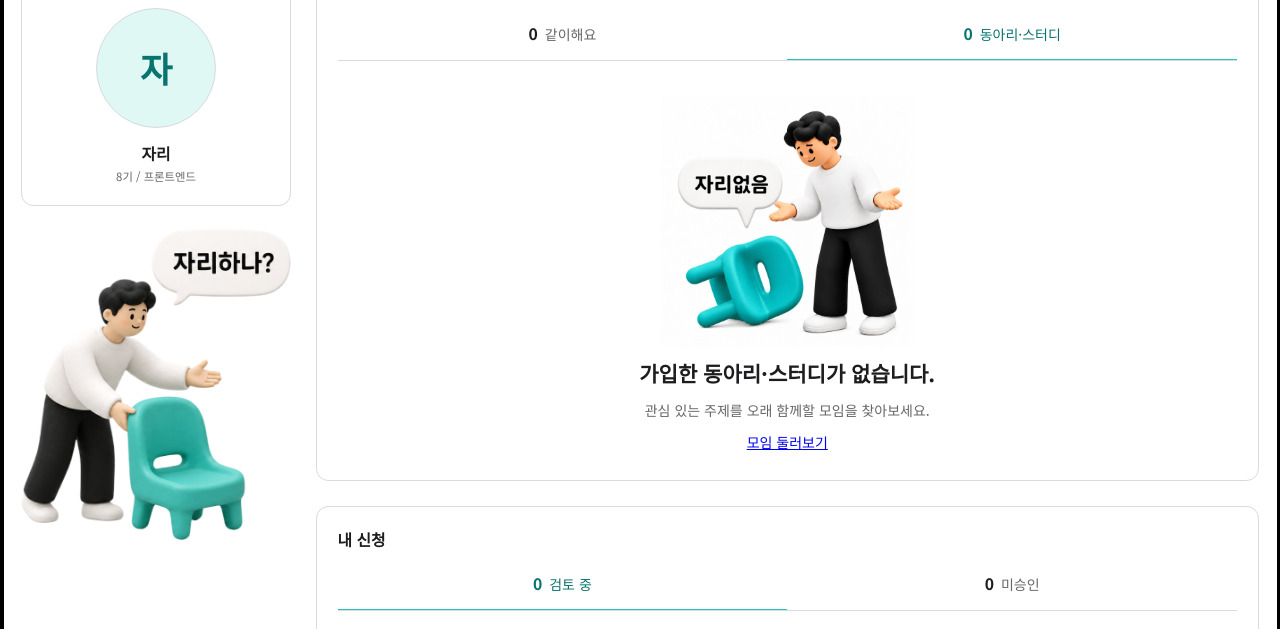
Scenario: MyPage › 유형별 빈 상태 링크와 기존 모임 유형 복귀 쿼리를 유지한다
The width and height of the screenshot is (1280, 629).
Expected: the heading "가입한 동아리·스터디가 없습니다." is shown, x1=639 y1=358 x2=935 y2=388
Expected: the 2nd picture is shown, x1=661 y1=96 x2=913 y2=348
Click the tab "0 같이해요" at (562, 34), box x1=338 y1=8 x2=787 y2=60
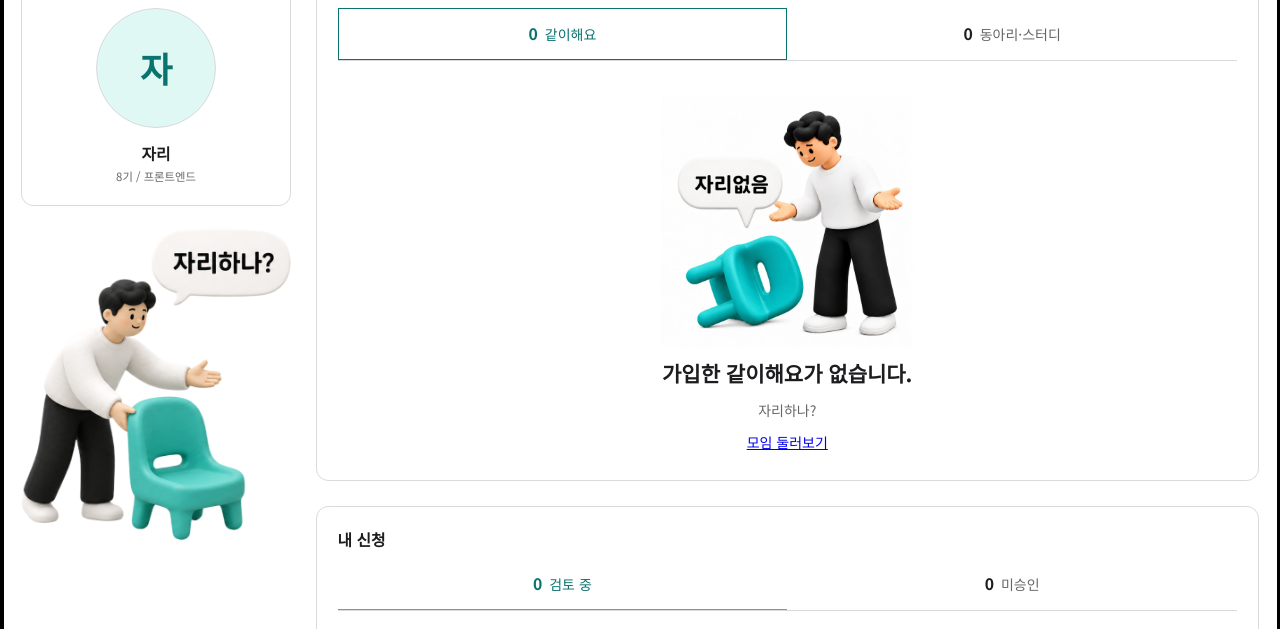
Expected: the 2nd picture is shown, x1=661 y1=96 x2=913 y2=348
Result: the text "자리하나?" is shown at x1=758 y1=399 x2=816 y2=422
Click the tab "0 미승인" at (1012, 584), box x1=787 y1=558 x2=1237 y2=610
(page scrolled)
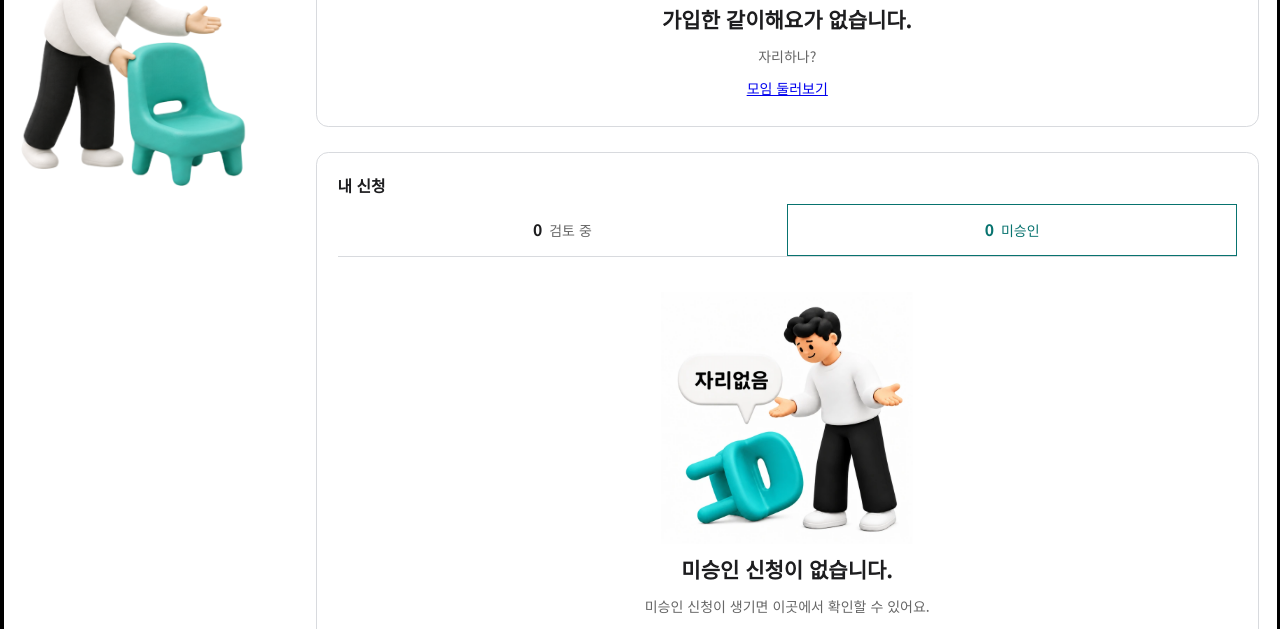
Expected: the 2nd picture is shown, x1=661 y1=292 x2=913 y2=544
Result: the heading "미승인 신청이 없습니다." is shown at x1=681 y1=554 x2=893 y2=584
